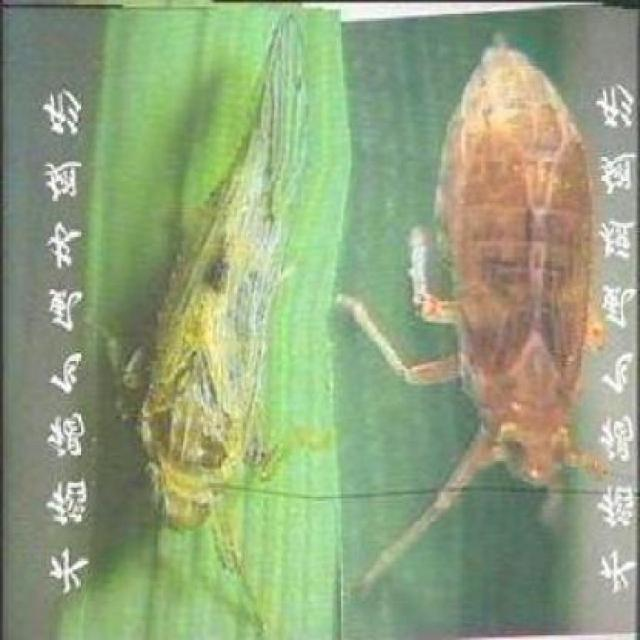brown-planthopper: (110, 10, 341, 545), (419, 18, 595, 520)
